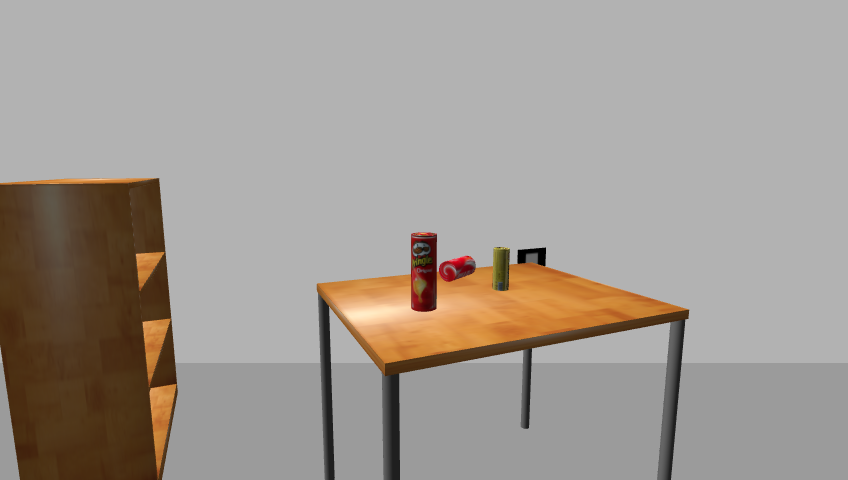aruco marker: (513, 246, 550, 269)
biscuits pack: (493, 246, 509, 292)
bookshelf: (0, 177, 182, 479)
coke can: (438, 256, 476, 284)
dinner table: (309, 263, 699, 479)
pringles can: (409, 232, 440, 313)
